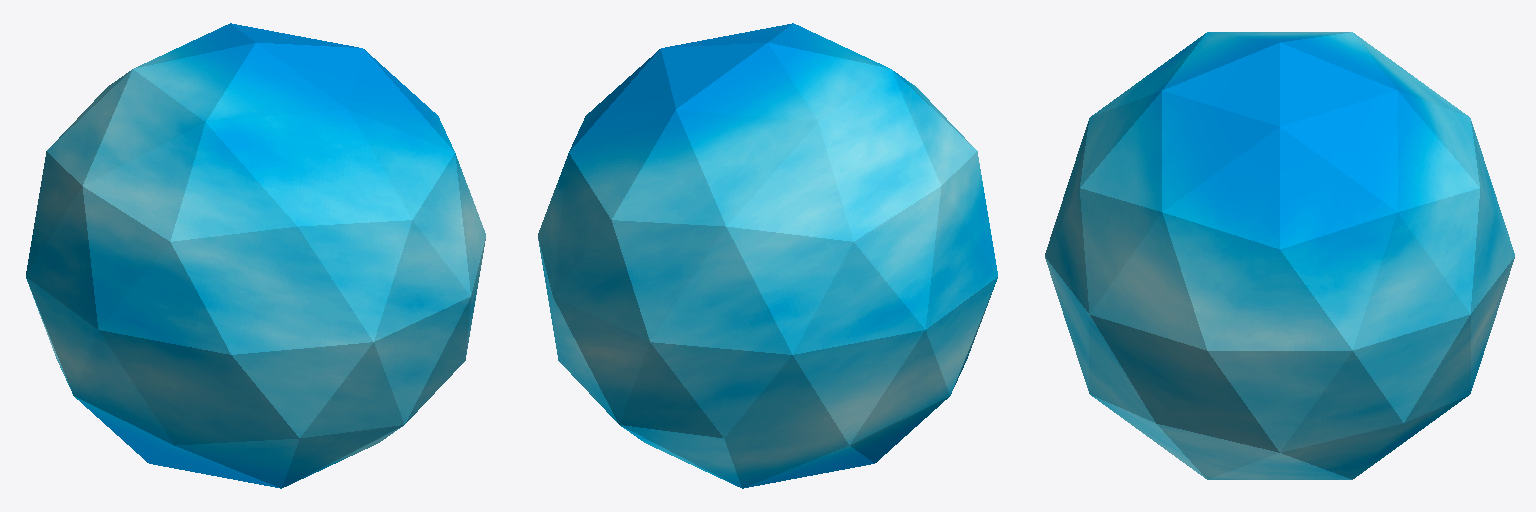
3 views of the same model, side by side, from view 1: azimuth 30°, elevation 25°; view 2: azimuth 150°, elevation 25°; view 3: azimuth 270°, elevation 25° (orthographic).
Parts seen in each view (by area): view 1: Icosphere; view 2: Icosphere; view 3: Icosphere.
Part boxes in pixels (x1,y1,x2,y2): Icosphere: (26, 23, 485, 488); Icosphere: (538, 23, 997, 488); Icosphere: (1045, 32, 1514, 479).
Size of the model in its own units: 122 by 128 by 128.
1 materials, 1 textured.